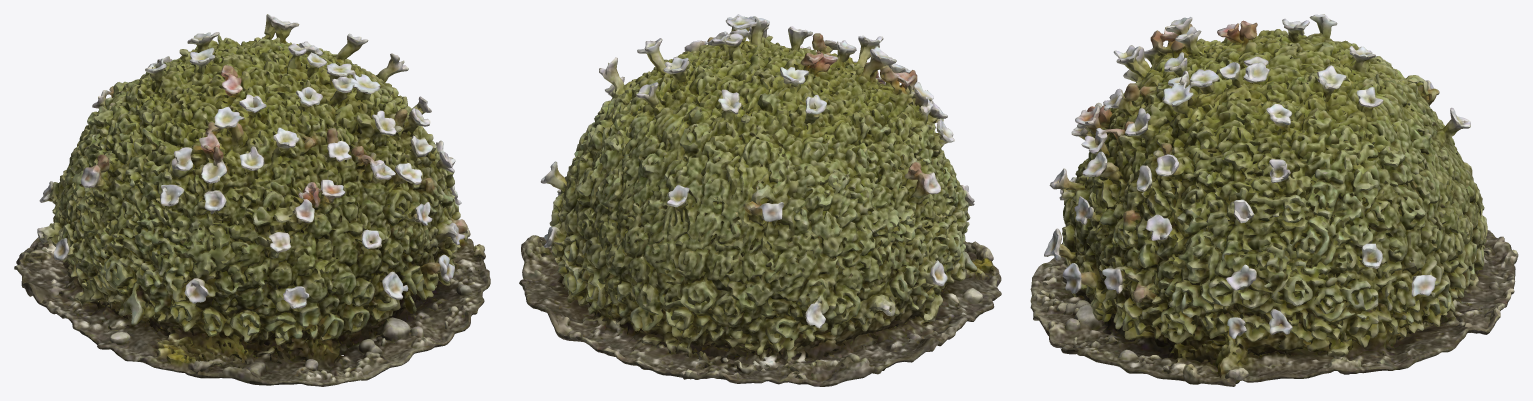
Rendered from alpine-cushion-cluster-v21.glb.
3 renders of one model, left to right at view 1: azimuth 30°, elevation 25°; view 2: azimuth 150°, elevation 25°; view 3: azimuth 270°, elevation 25°, orthographic. The views are drawn at different scales.
Visible parts, largest first — view 1: world; view 2: world; view 3: world.
Part boxes in pixels (x1,y1,x2,y2): world: (14, 14, 490, 386); world: (519, 14, 1001, 386); world: (1030, 14, 1518, 386).
Size of the model in its own units: 0.3 by 0.1819 by 0.2996.
1 material, 1 textured.
